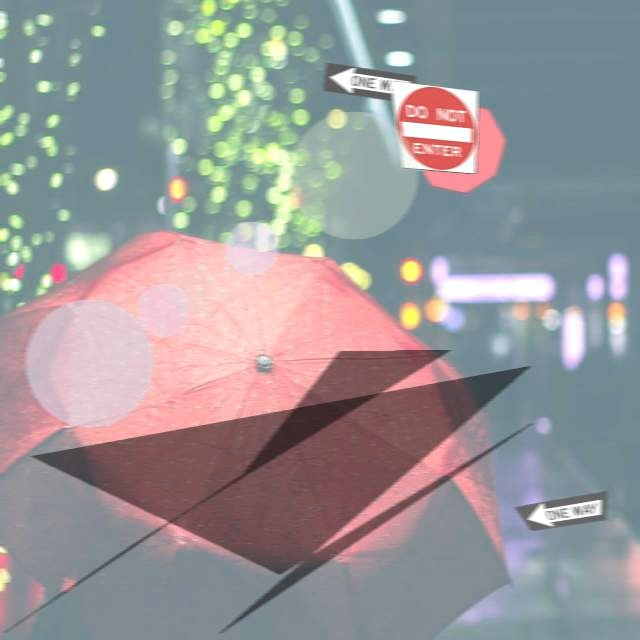DO_NOT_ENTER: (390, 81, 479, 175)
ONE_WAY_ left: (323, 63, 417, 105), (514, 491, 608, 532)
STOP: (413, 101, 507, 195)
